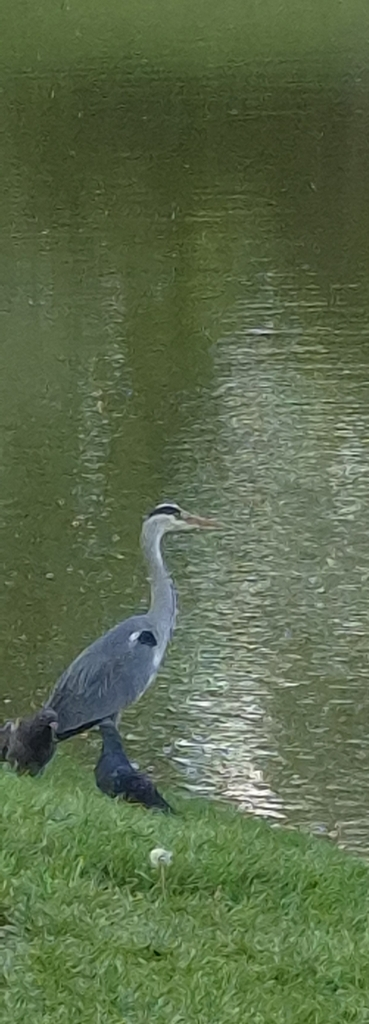heron: (30, 499, 227, 762)
